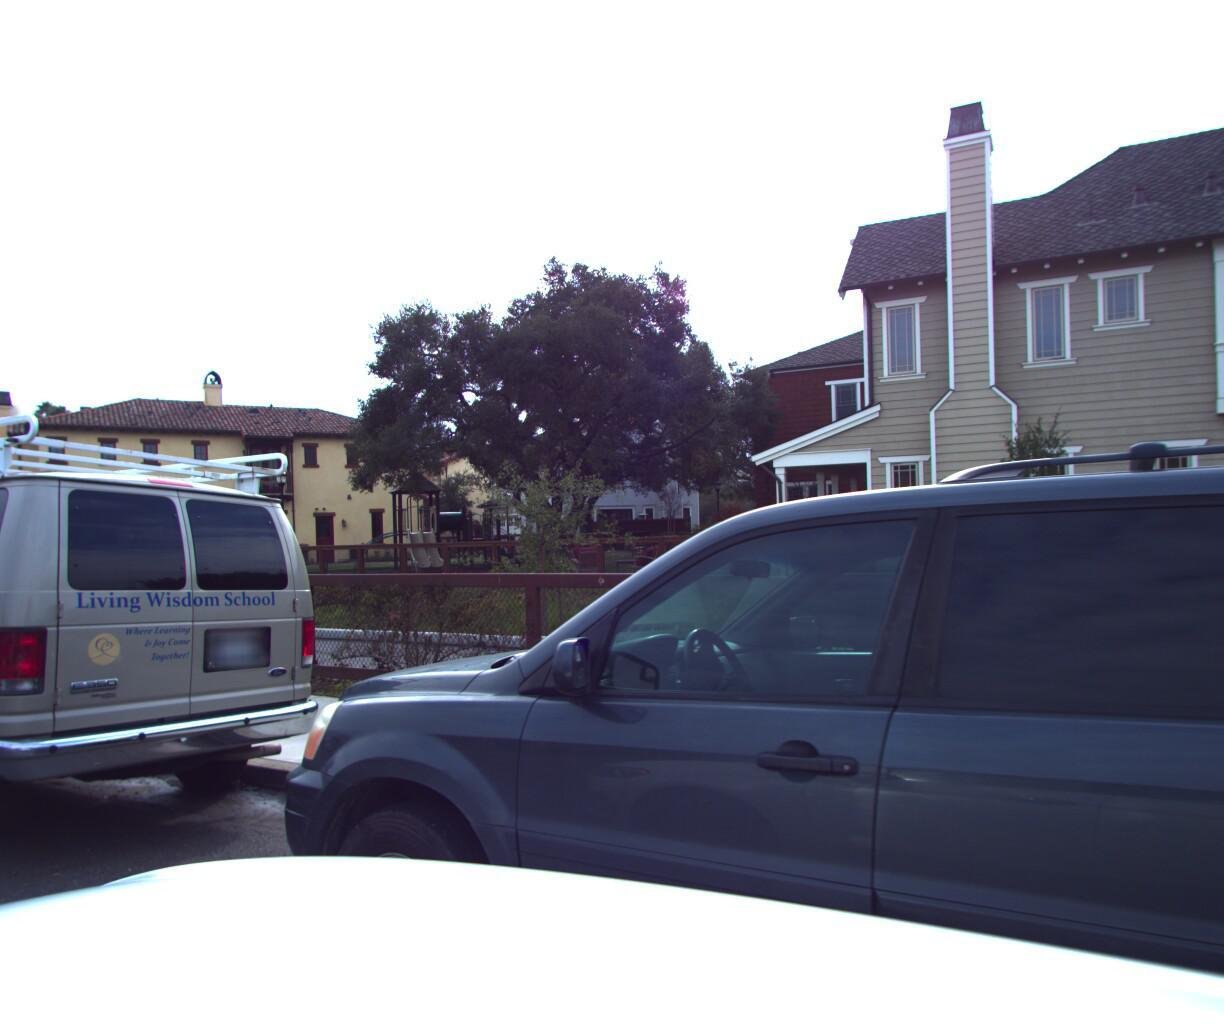car: (172, 216, 1224, 1024), (0, 382, 354, 916)
